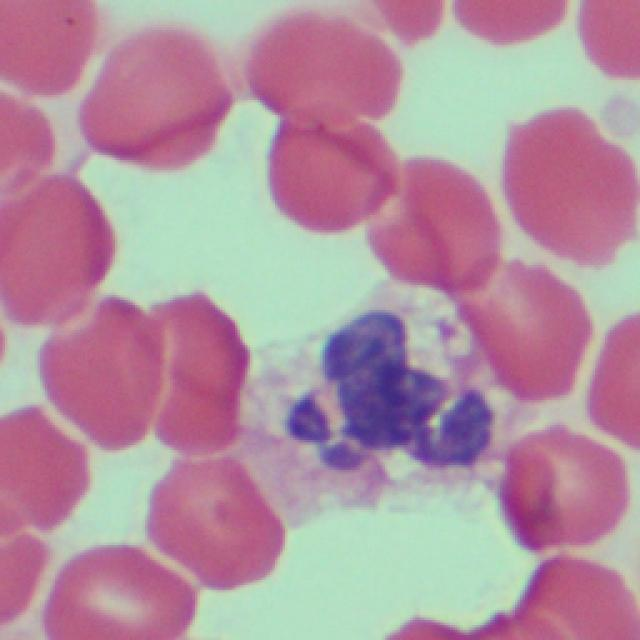RBC: (78, 5, 232, 178), (498, 98, 636, 272), (455, 255, 592, 427), (132, 279, 247, 469), (254, 92, 396, 240), (230, 0, 400, 123), (150, 451, 292, 594), (362, 151, 494, 302), (492, 422, 626, 568), (35, 297, 160, 452), (0, 172, 106, 349), (50, 543, 197, 638), (0, 0, 102, 115), (511, 557, 638, 640), (0, 412, 81, 537), (446, 0, 572, 49), (570, 0, 640, 79)
WBC: (228, 292, 506, 514)
